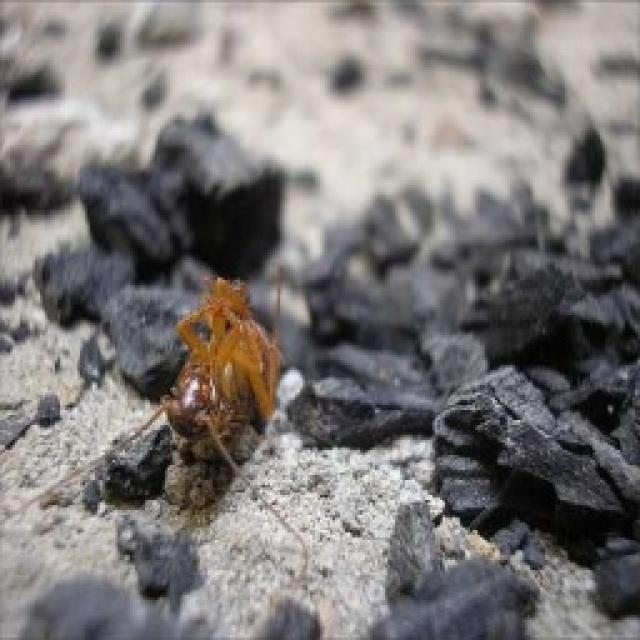cockroach: (160, 273, 285, 465)
